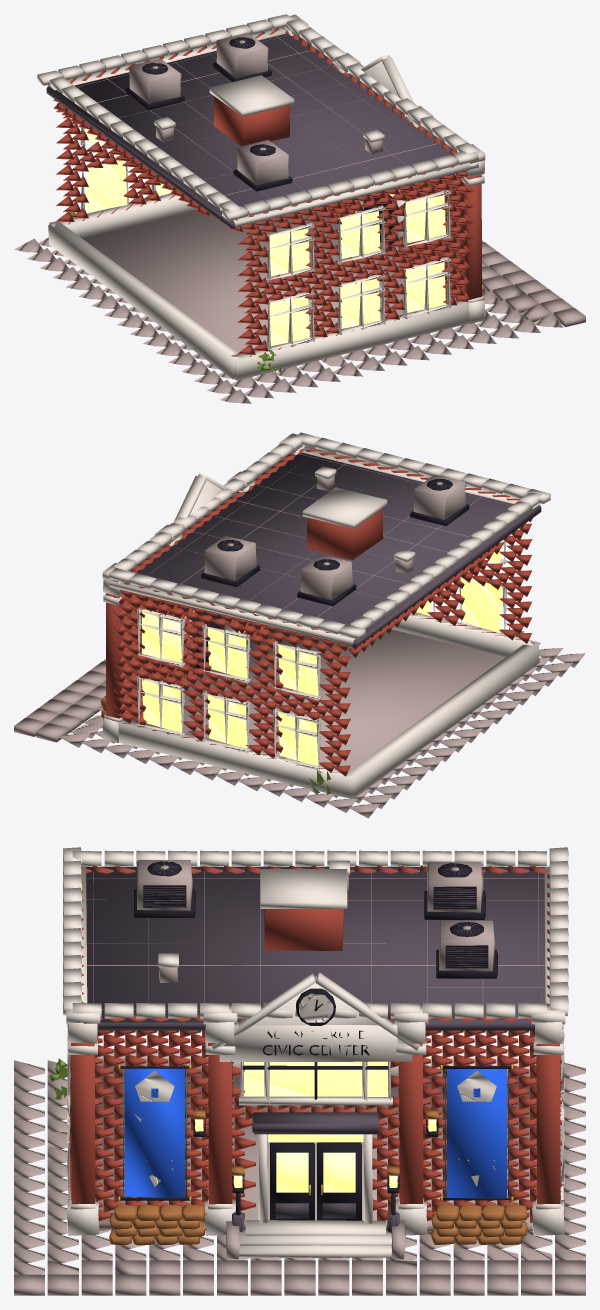
3 renders of one model, top to bottom at view 1: azimuth 30°, elevation 25°; view 2: azimuth 150°, elevation 25°; view 3: azimuth 270°, elevation 25°, orthographic. The views are drawn at different scales.
Size of the model in its own units: 13.53 by 7.39 by 14.38.
